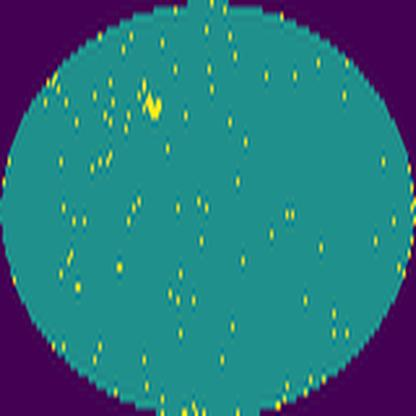Loc: (140, 93, 162, 122)
